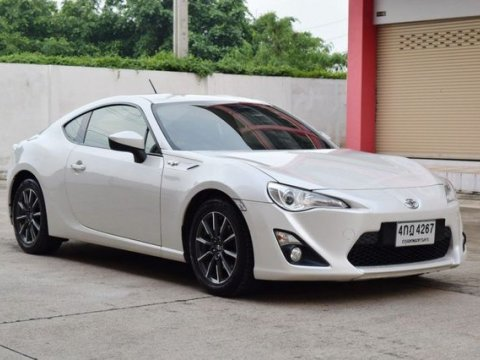sedan: (5, 91, 469, 298)
